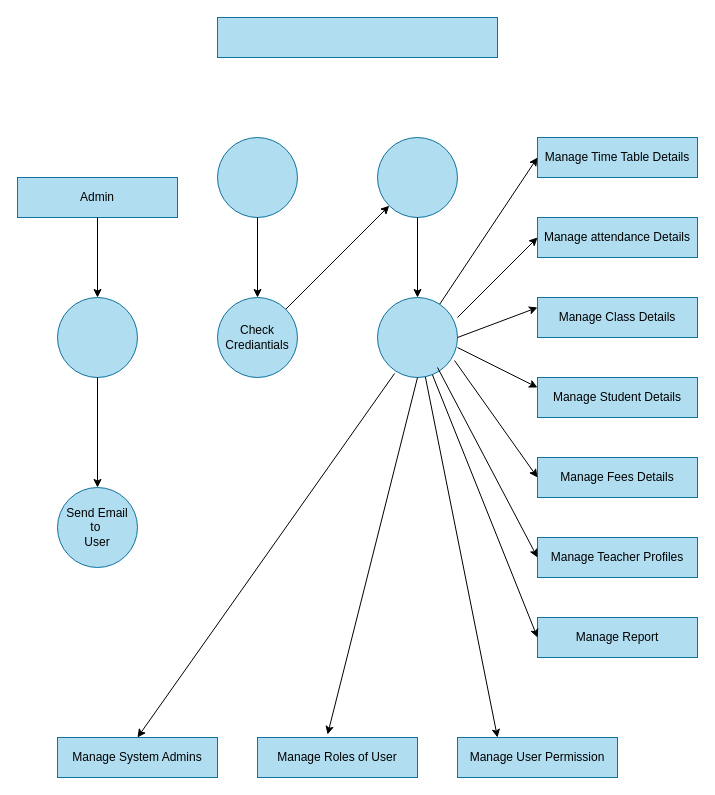
The diagram is 715 pixels wide and 795 high, and some of its shapes have lost their labels. The shapes that lost their labels are listed below. From the top down, each one's centre as x and y in pixels, then its label:
At [357,37]: "Student Information System".
At [257,177]: "Login to System".
At [417,177]: "Check roles of Access".
At [97,337]: "Forget Password".
At [417,337]: "Manage Modules".
